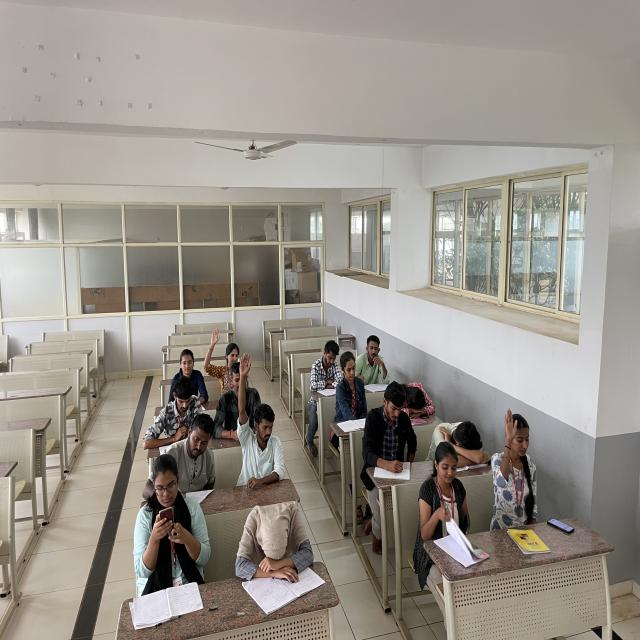Hand Rising: (234, 354, 286, 491), (493, 405, 538, 514), (202, 328, 242, 384)
Reading: (307, 337, 348, 398), (357, 333, 389, 396)
Sleeping: (235, 501, 314, 581), (429, 415, 494, 474), (396, 377, 434, 431)
Using Phone: (136, 454, 206, 577)
Writing: (368, 382, 415, 479)
